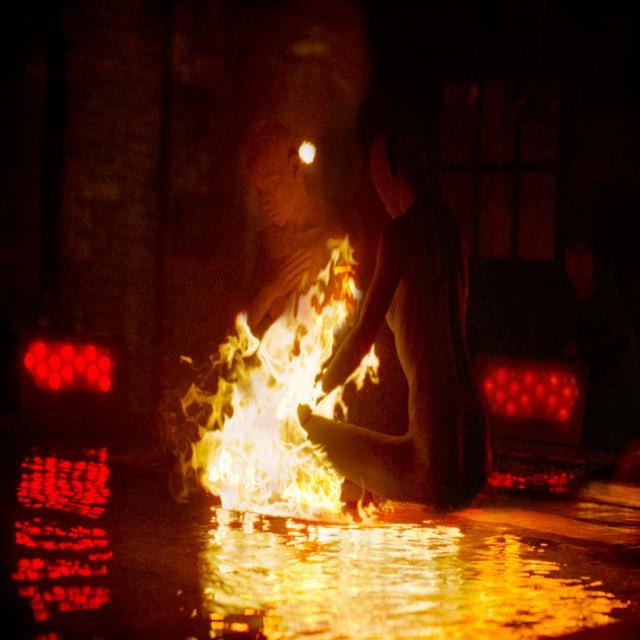Fire: (208, 424, 336, 516), (232, 329, 322, 419)
